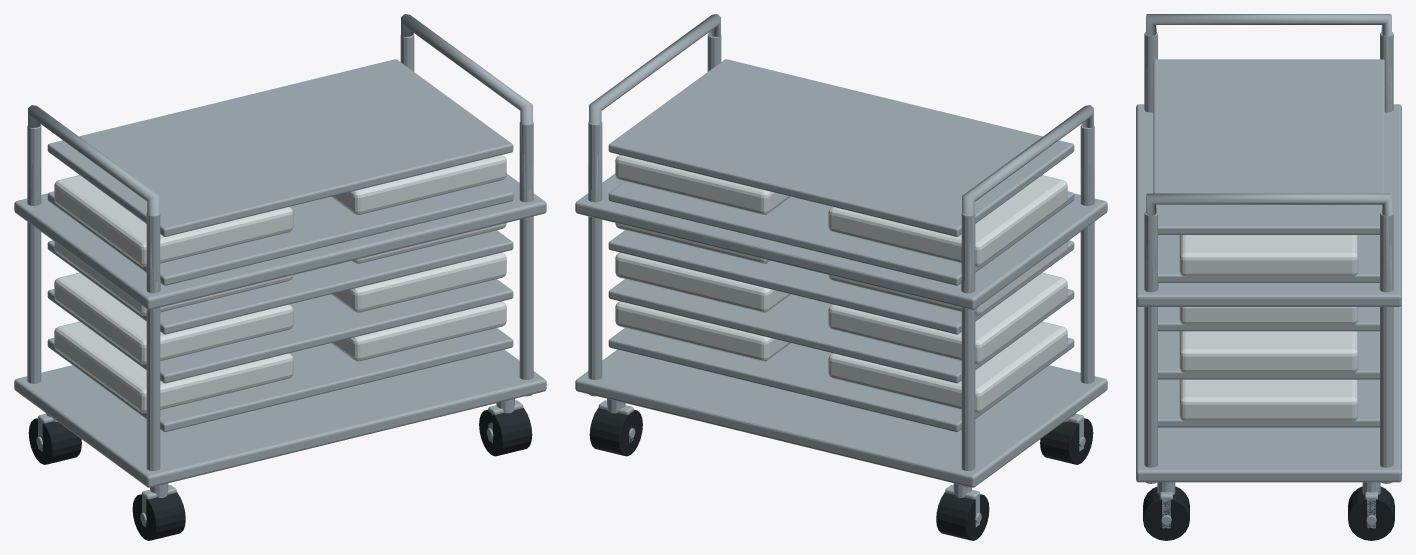
The model's file is SF_MealTransportCart.fbx.
3 views of the same model, side by side, from view 1: azimuth 30°, elevation 25°; view 2: azimuth 150°, elevation 25°; view 3: azimuth 270°, elevation 25° (orthographic).
Visible parts, largest first — view 1: SF_MealTransportCart; view 2: SF_MealTransportCart; view 3: SF_MealTransportCart.
Part boxes in pixels (<box>): SF_MealTransportCart: <box>14,14,546,540</box>; SF_MealTransportCart: <box>575,14,1107,540</box>; SF_MealTransportCart: <box>1136,14,1401,540</box>.
Size of the model in its own units: 120 by 101 by 70.
